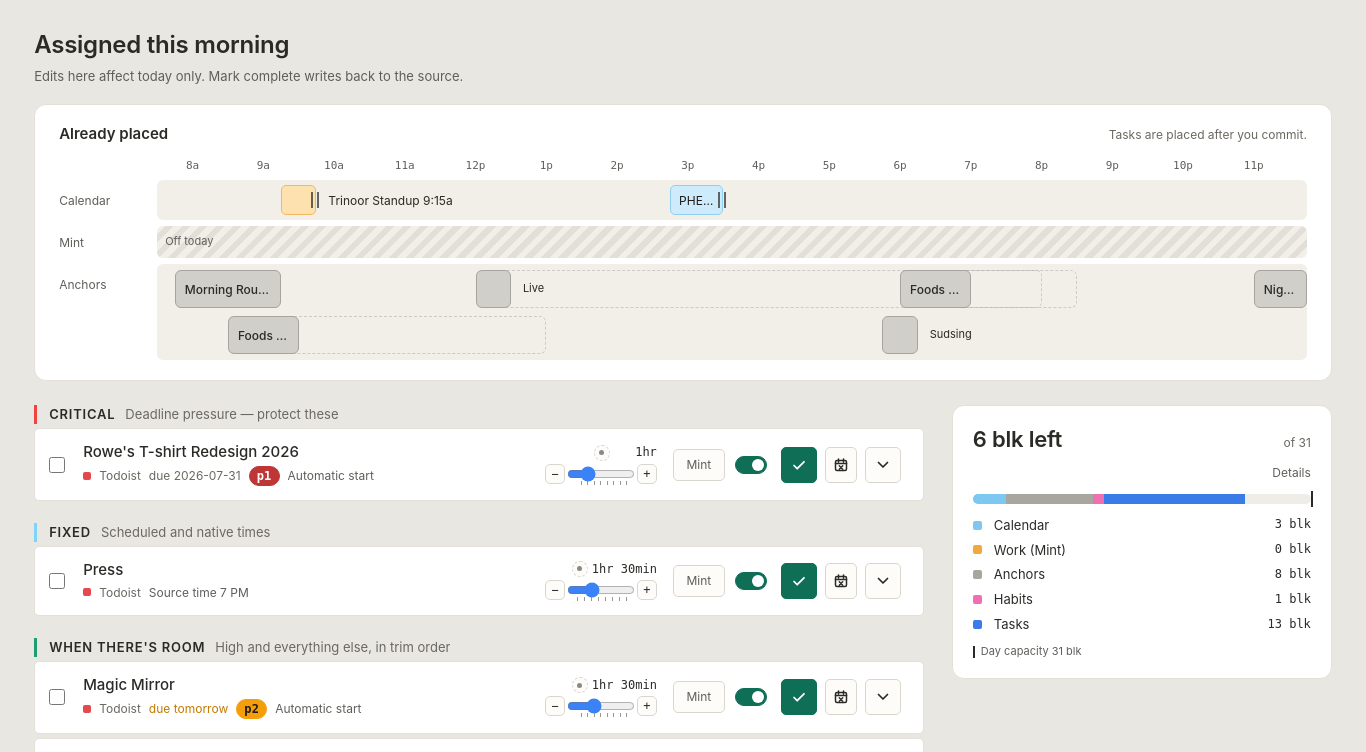
Test: expanded row panel › locks All-day only for a protected Todoist native time
The image size is (1366, 752).
Click the button named "Expand" in the row of "Source time 7 PM": (883, 581) top-left (865, 563), bottom-right (901, 599)
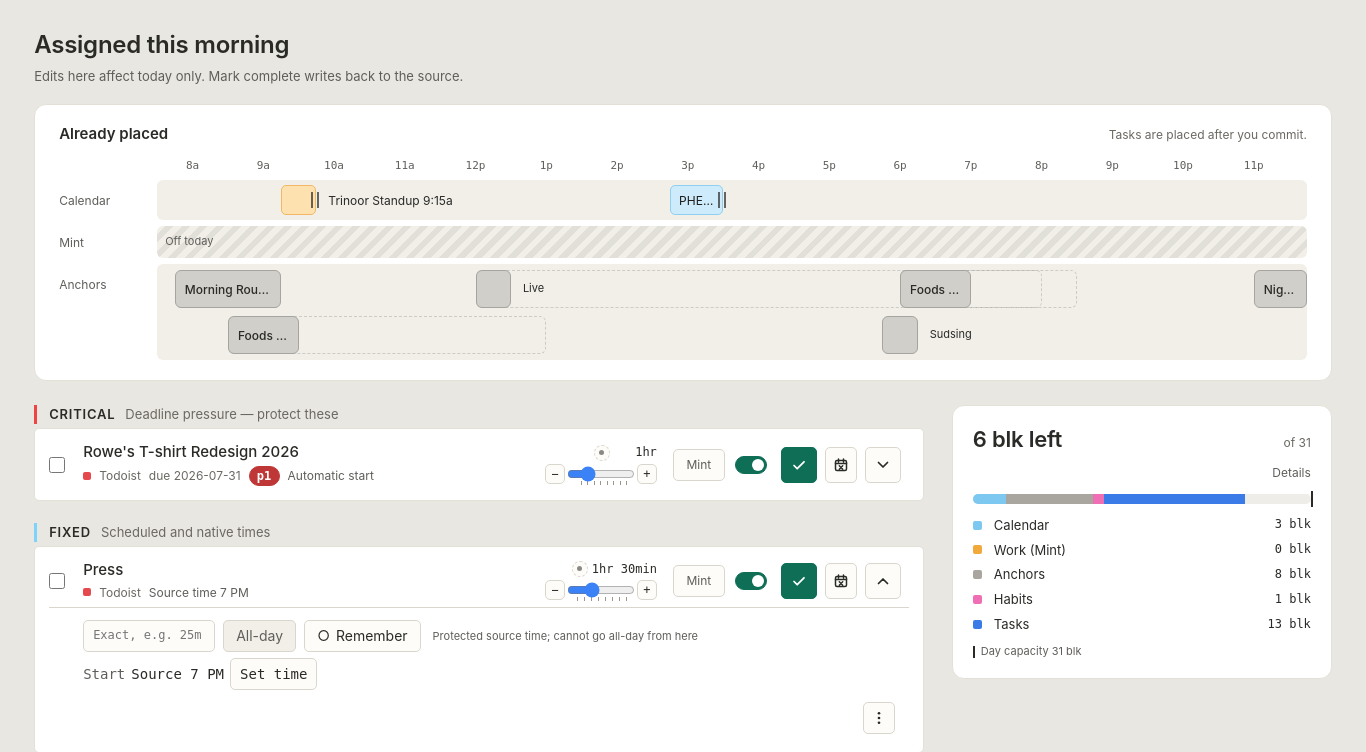
Now the button with class "trow__tog" is disabled, box top-left (223, 620), bottom-right (296, 652)
Now the element that starts with "Press" shows "Protected source time; cannot go all-day from here", box top-left (433, 629), bottom-right (698, 643)
